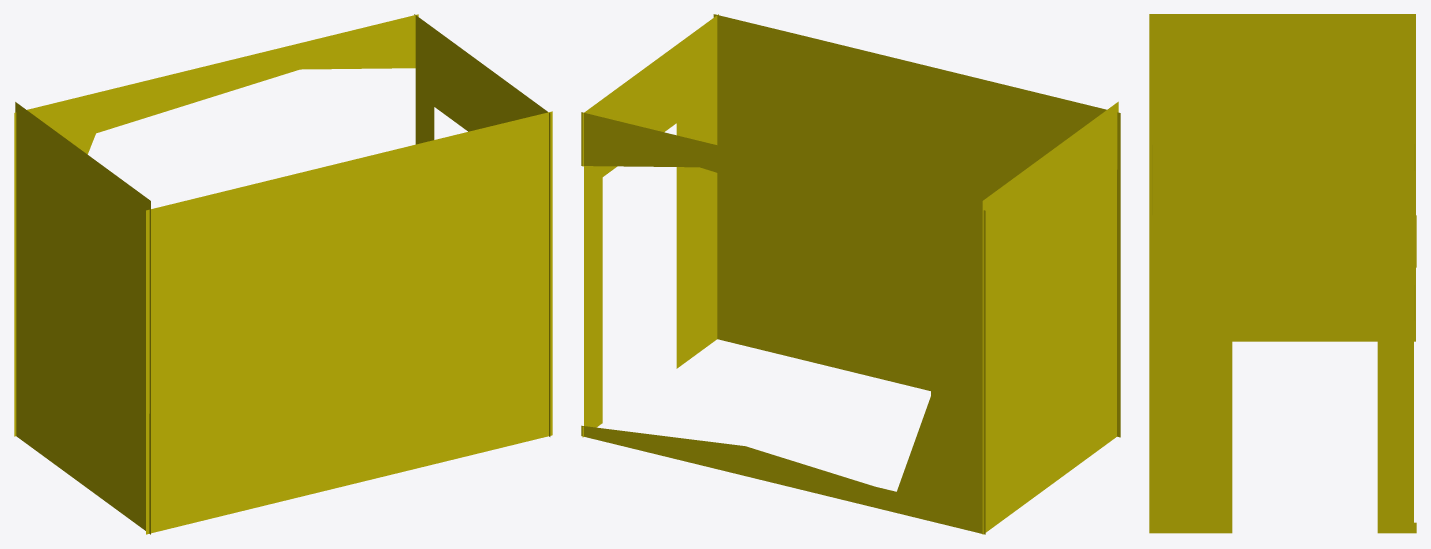
Rendered from BH05B_WP_04_Break.fbx.
3 views of the same model, side by side, from view 1: azimuth 30°, elevation 25°; view 2: azimuth 150°, elevation 25°; view 3: azimuth 270°, elevation 25° (orthographic).
Parts seen in each view (by area): view 1: BH05B_WP_04_Break; view 2: BH05B_WP_04_Break; view 3: BH05B_WP_04_Break.
Boxes of the visible parts, x1,y1,x2,y2 form: BH05B_WP_04_Break: (14,14,552,534); BH05B_WP_04_Break: (581,14,1120,534); BH05B_WP_04_Break: (1149,14,1416,533).
Bounding box in the file's own units: 386 × 303 × 224.
